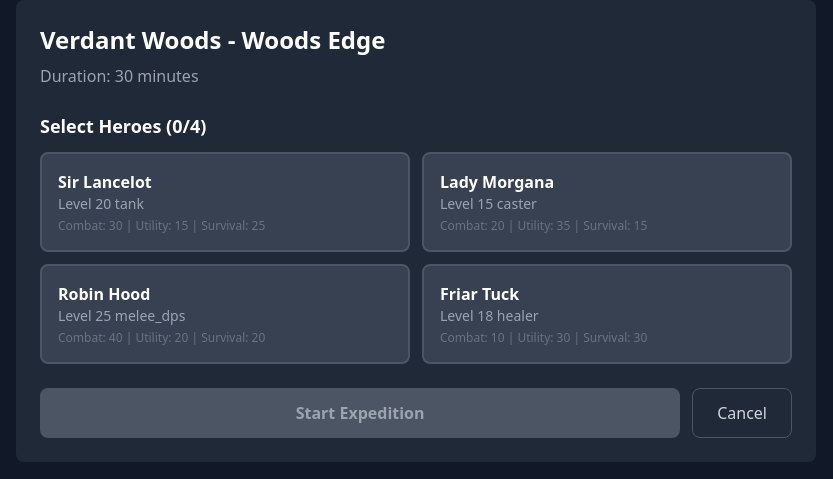
Test: Setup (Expedition) › Hero Selection › should select hero on click
Click the button with class "hero-card" that starts with "Sir Lancelot": coordinates (105, 182) [40,152,410,252]
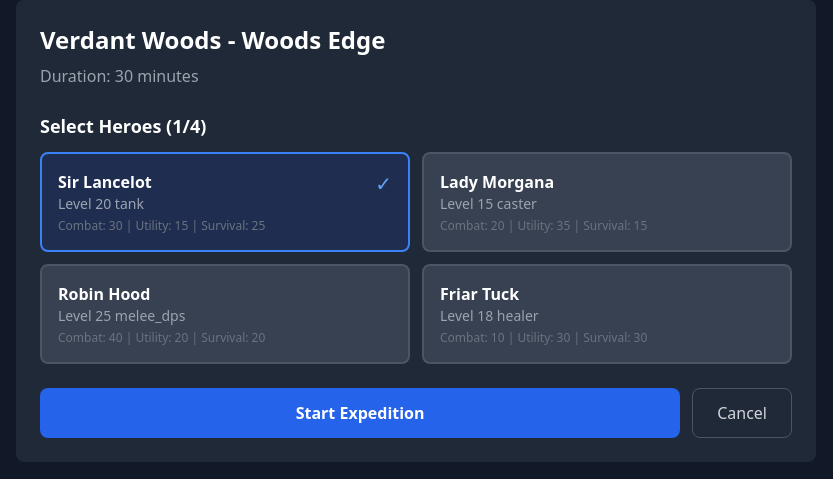
Result: the text "1/4" is shown at [40,114,206,138]
